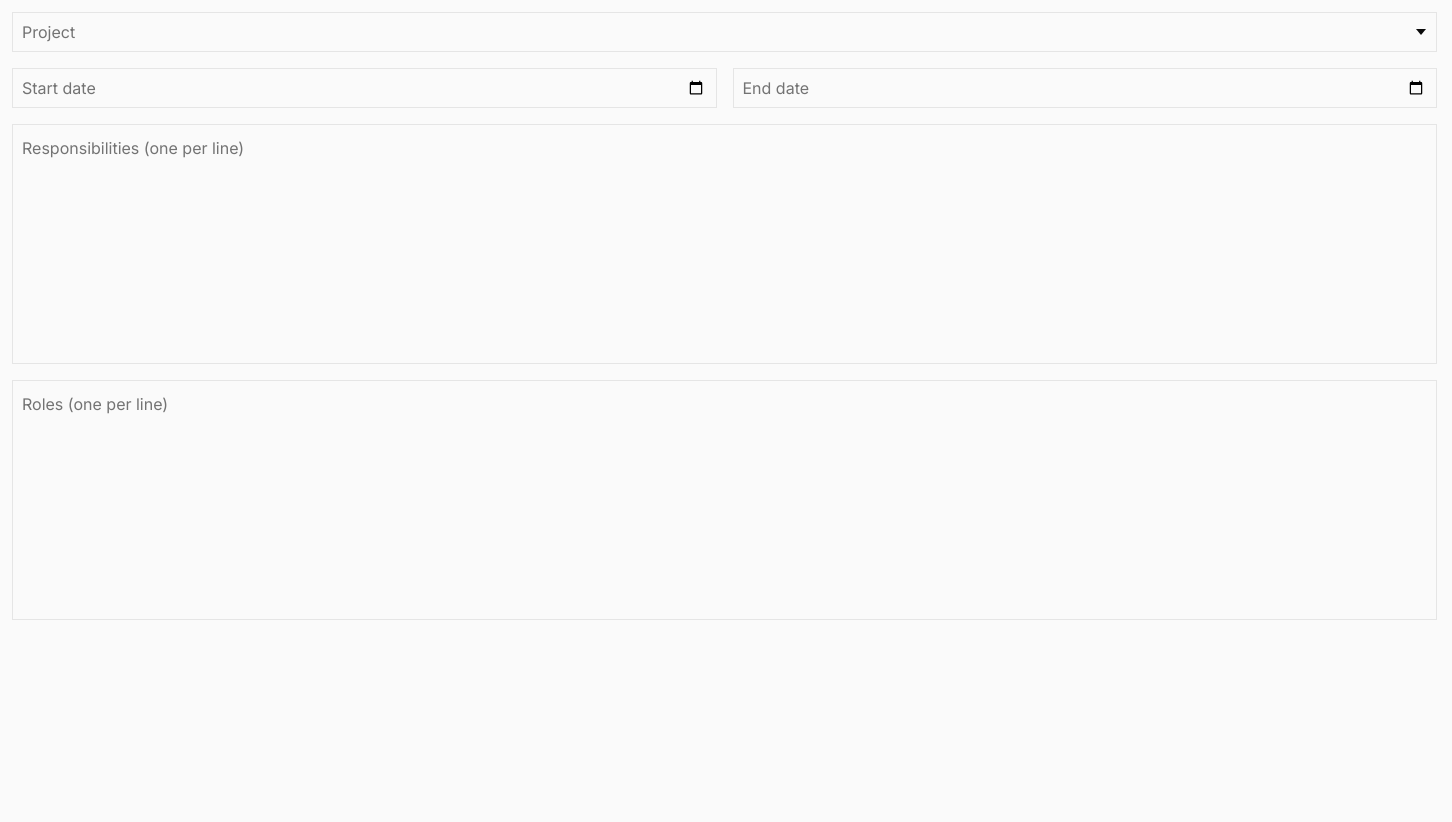
Scenario: ProjectForm › renders available projects in the project select
Click the dropdown named "Project": click(1421, 32) [12, 12, 1437, 52]
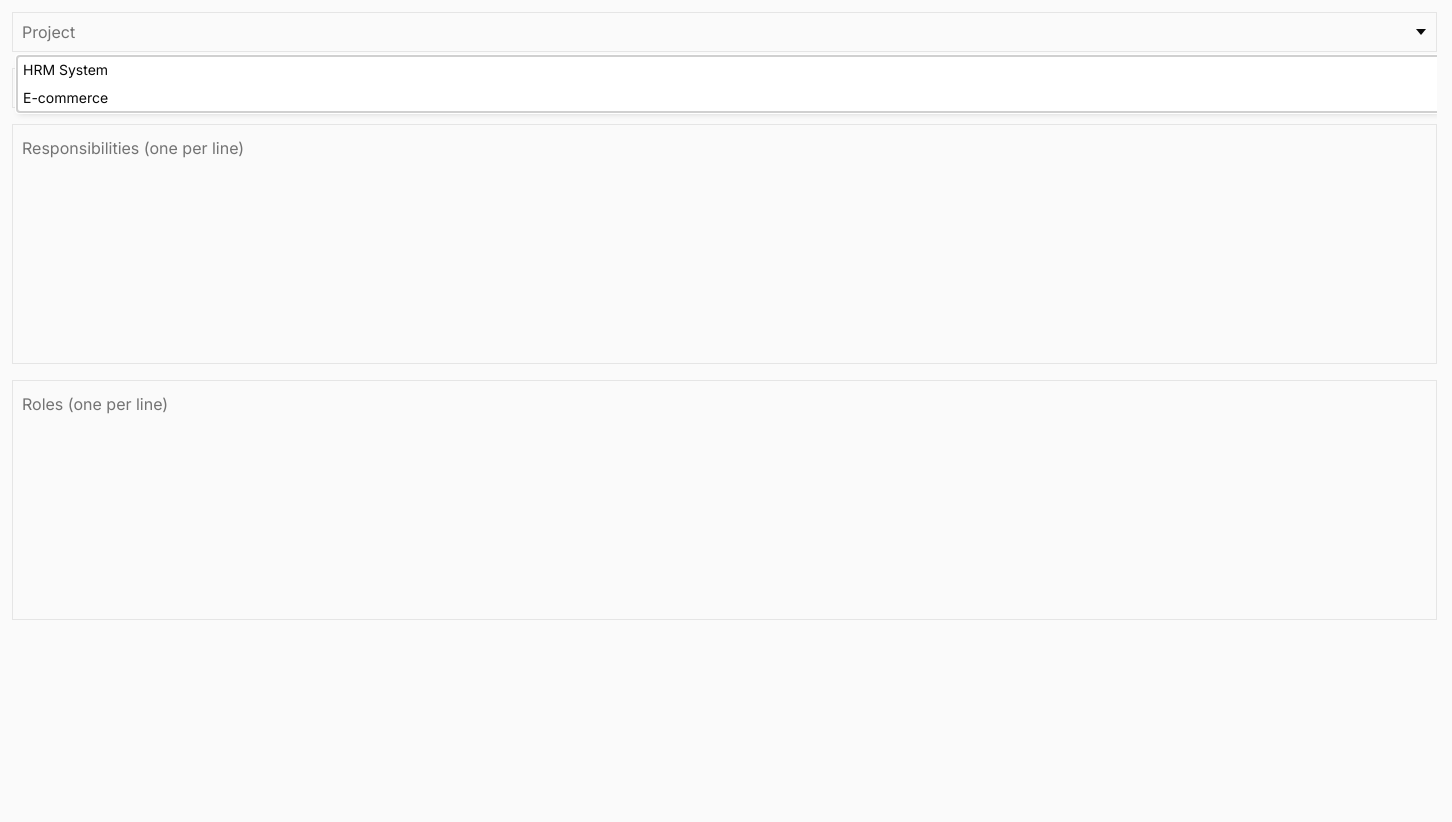
Check: the text "HRM System" is shown, box [23, 61, 108, 78]
Check: the text "E-commerce" is shown, box [23, 89, 108, 106]
